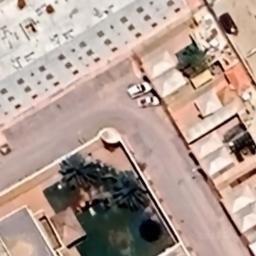SUV: (127, 82, 152, 100)
pickup: (136, 96, 160, 108)
